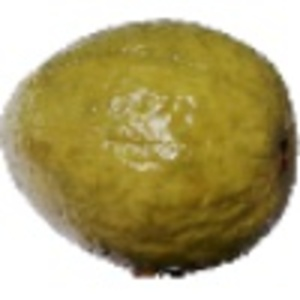goiaba: (3, 14, 295, 280)
